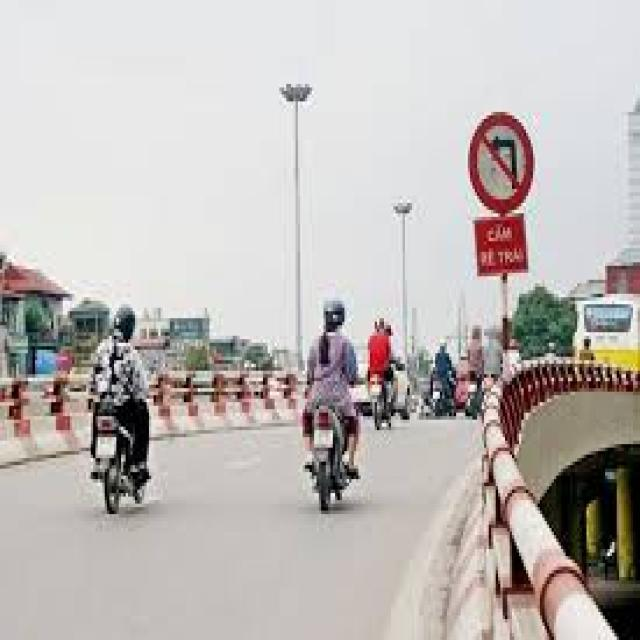Bien bao cam re trai: (453, 83, 544, 219)
